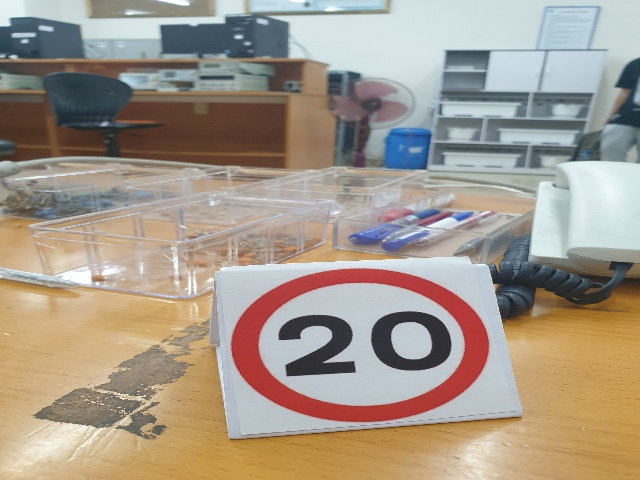Limit 20: (234, 275, 492, 419)
